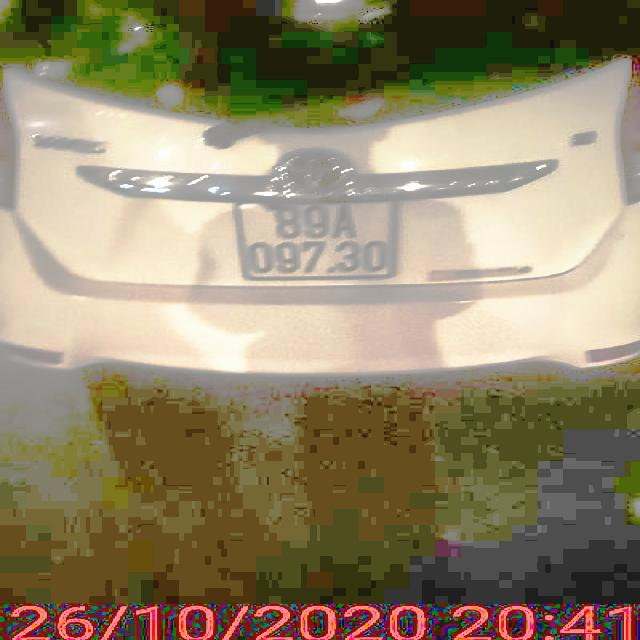license_plate: (241, 200, 402, 279)
